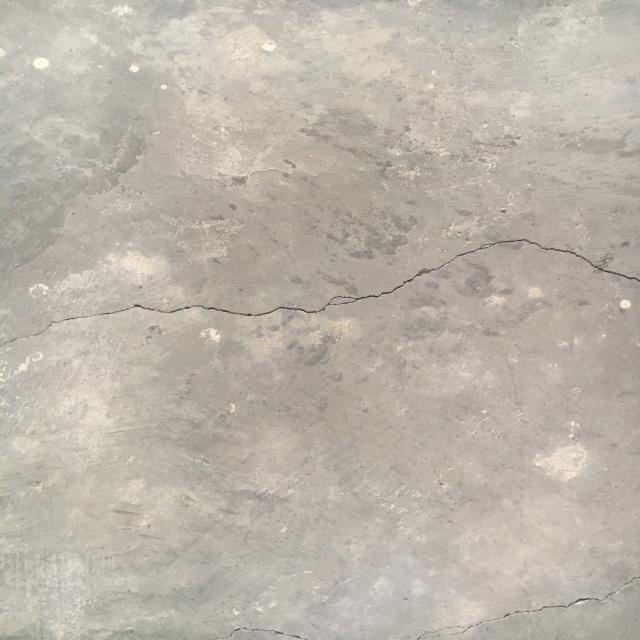Rachadura: (0, 234, 640, 354), (414, 575, 640, 640), (206, 625, 314, 640)
